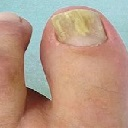Nail Fungal Infection: (49, 9, 99, 39)
